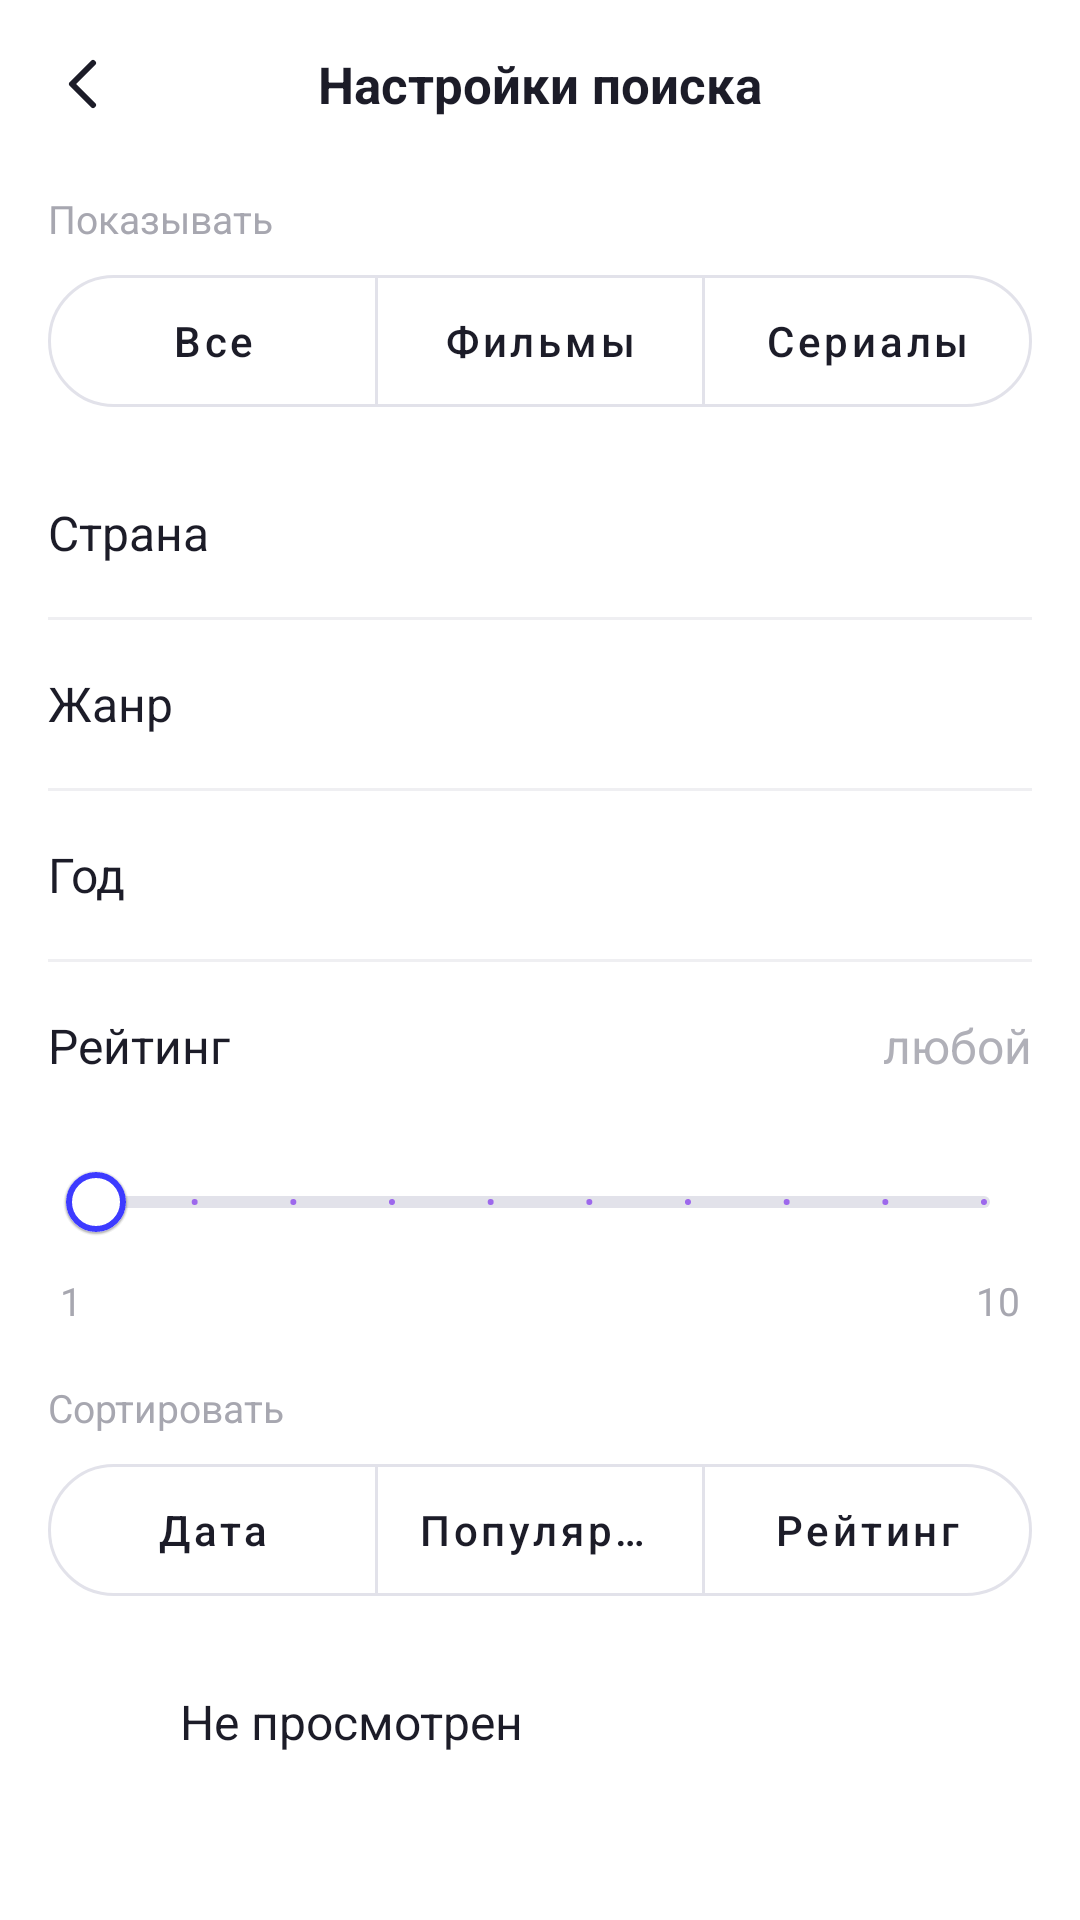

Where icons sit on this 1080w x 1920h app screen, as (x1, y1, x2, y2):
Назад: (69, 60, 96, 108)
